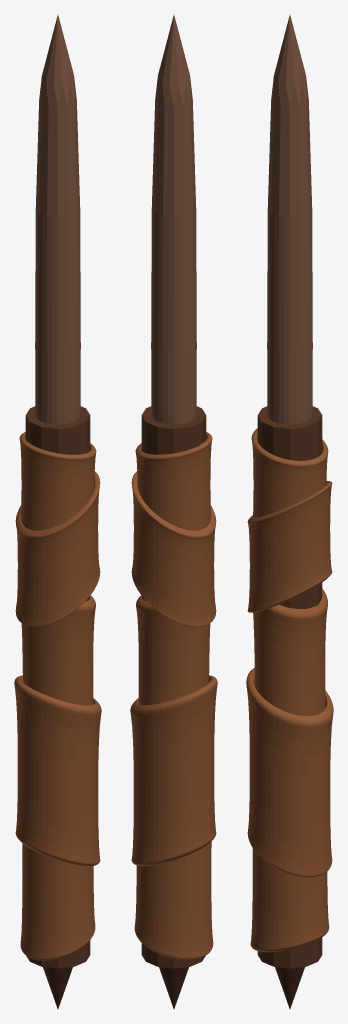
File: Wand 302.glb
The picture shows the model from 3 angles, left to right: view 1: azimuth 30°, elevation 25°; view 2: azimuth 150°, elevation 25°; view 3: azimuth 330°, elevation 25°; orthographic projection.
Visible parts, largest first — view 1: GeneratedWand; view 2: GeneratedWand; view 3: GeneratedWand.
Part boxes in pixels (x1,y1,x2,y2): GeneratedWand: (14,15,101,1009); GeneratedWand: (130,15,217,1009); GeneratedWand: (246,15,333,1009).
Bounding box in the file's own units: 0.0408 × 0.5138 × 0.0408.
